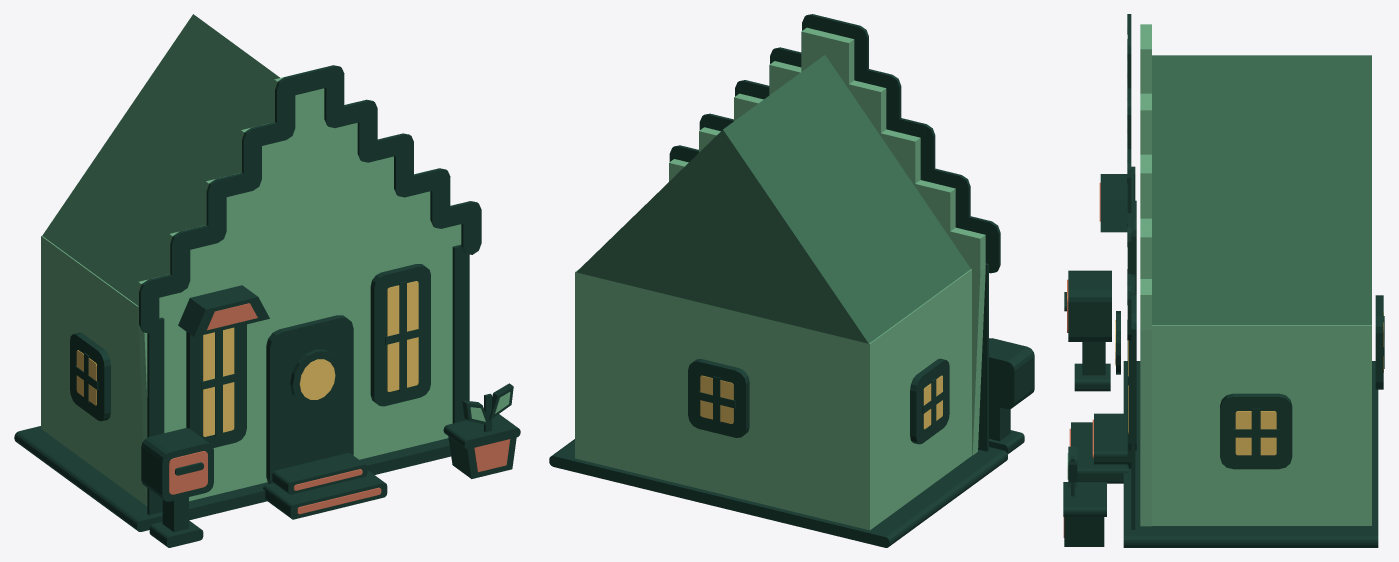
3 renders of one model, left to right at view 1: azimuth 30°, elevation 25°; view 2: azimuth 150°, elevation 25°; view 3: azimuth 270°, elevation 25°, orthographic. The views are drawn at different scales.
Visible parts, largest first — view 1: Rent Free house; view 2: Rent Free house; view 3: Rent Free house.
Part boxes in pixels (x1,y1,x2,y2): Rent Free house: (14, 14, 520, 547); Rent Free house: (549, 14, 1034, 547); Rent Free house: (1063, 14, 1384, 547).
Bounding box in the file's own units: 0.9486 × 1.06 × 0.7143.
